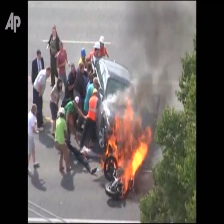fire_h: (101, 98, 152, 197)
fire_l: (105, 158, 116, 171), (100, 159, 105, 171)
